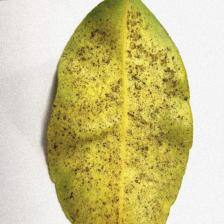canker: (68, 58, 180, 198)
